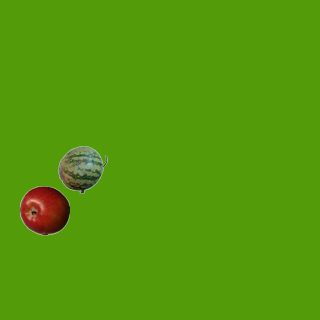Apple Braeburn: (19, 185, 69, 235)
Watermelon: (57, 144, 107, 194)
